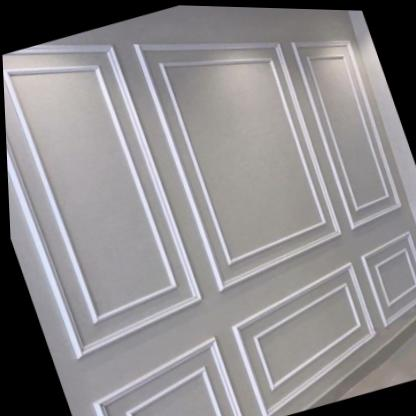Futec frame: (1, 17, 416, 416)
